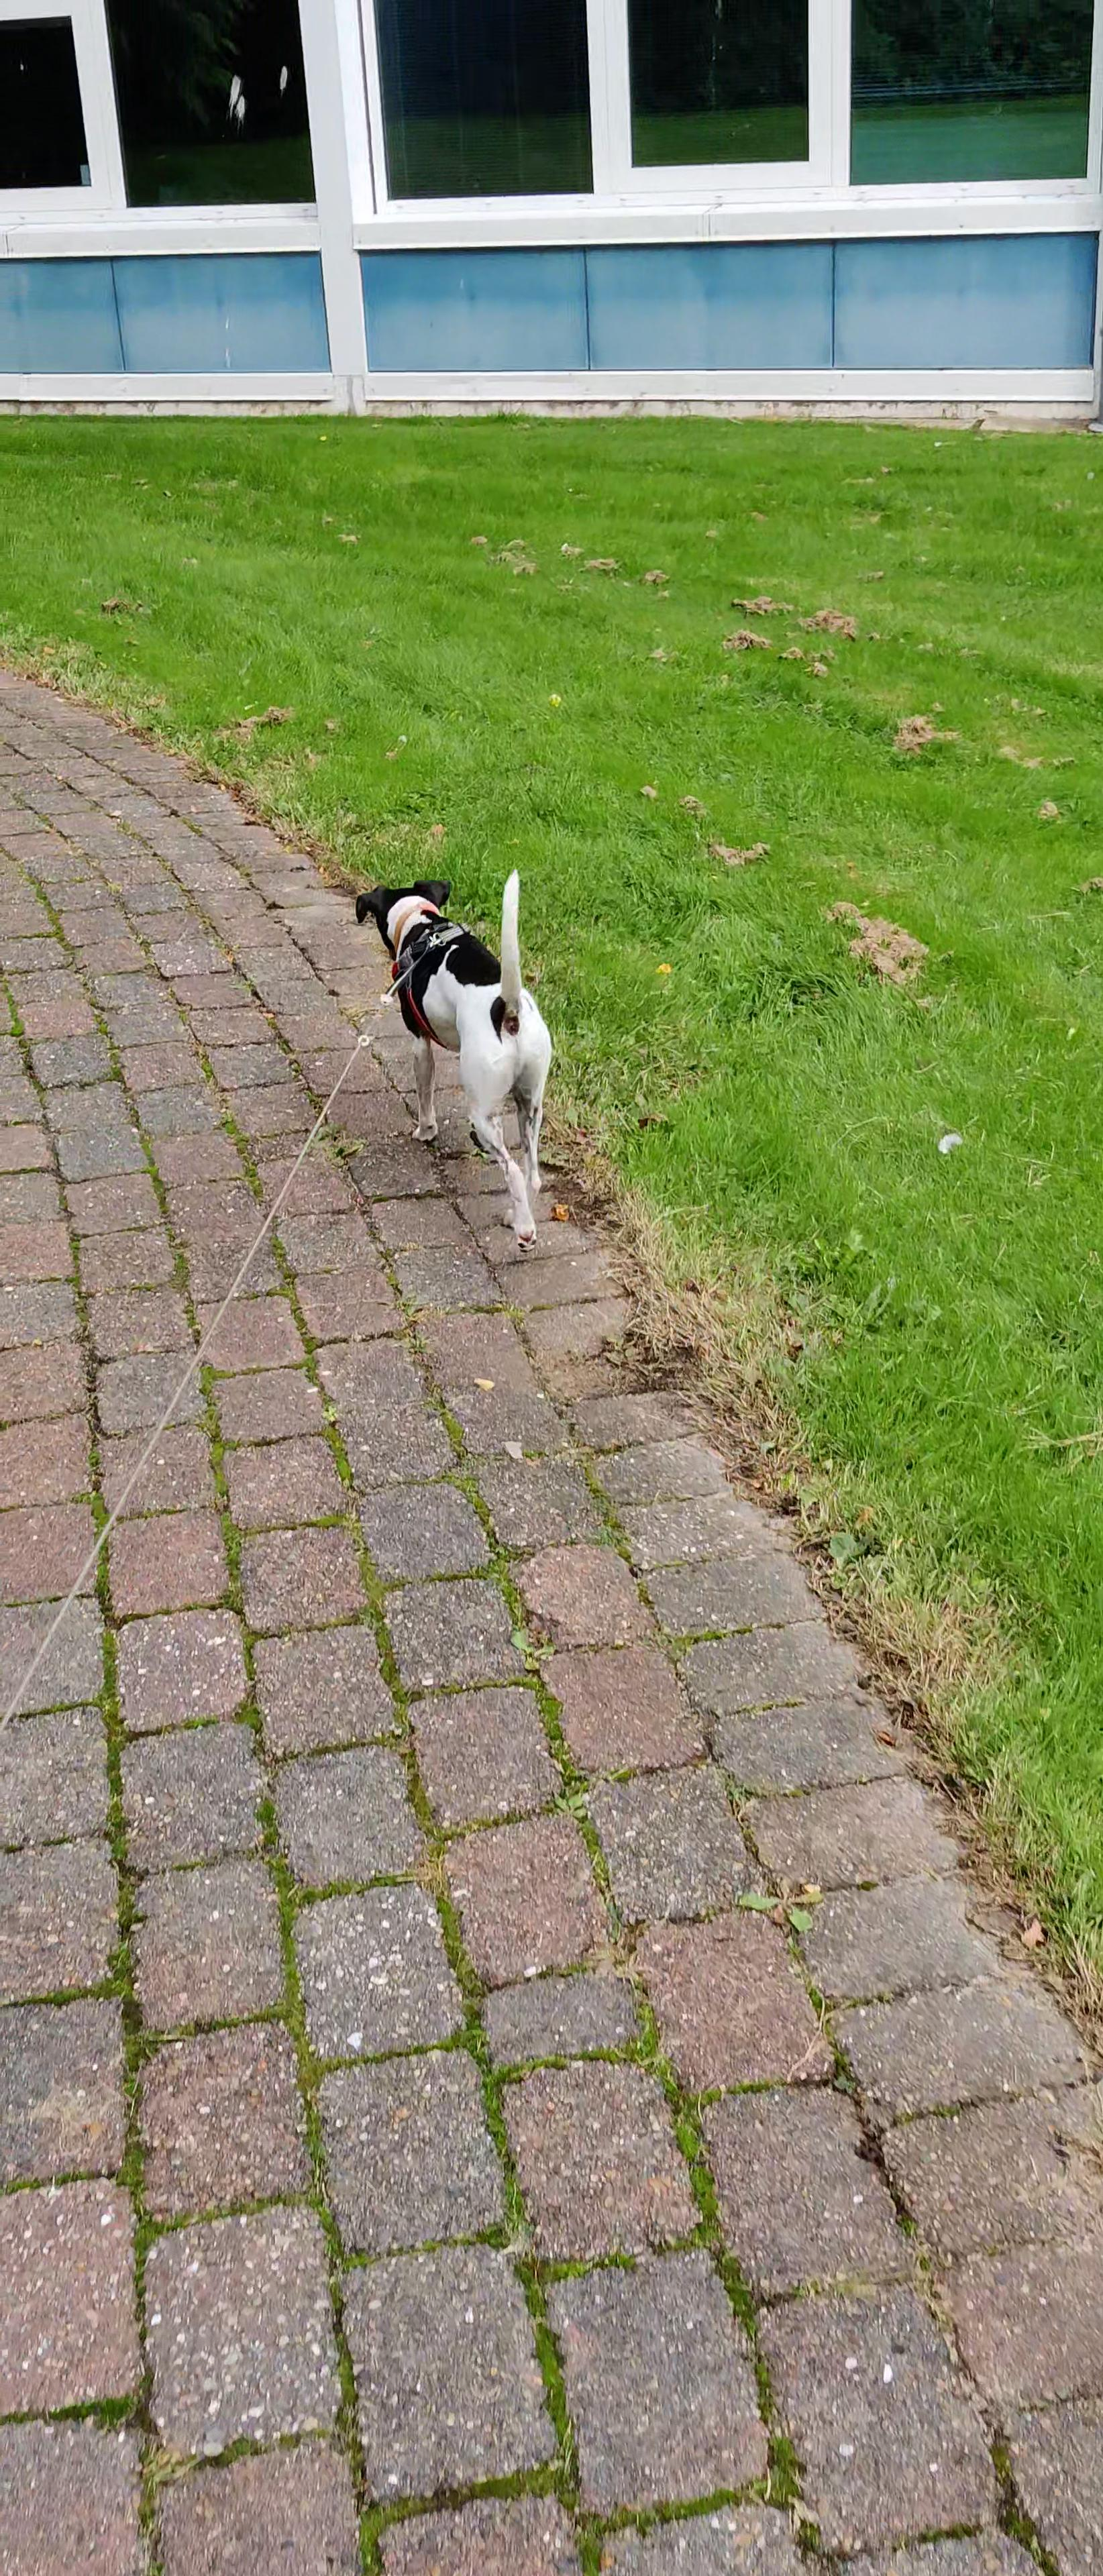Dog: (345, 861, 569, 1249)
